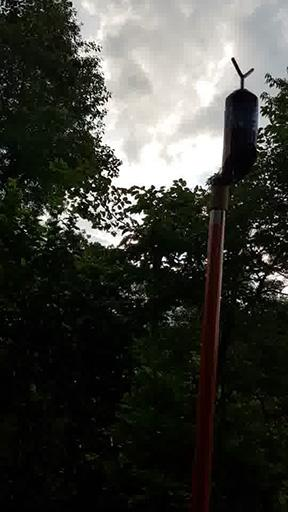Detector_Tensao_Contato: (220, 57, 258, 187)
Vara_Manobra: (195, 184, 231, 512)
